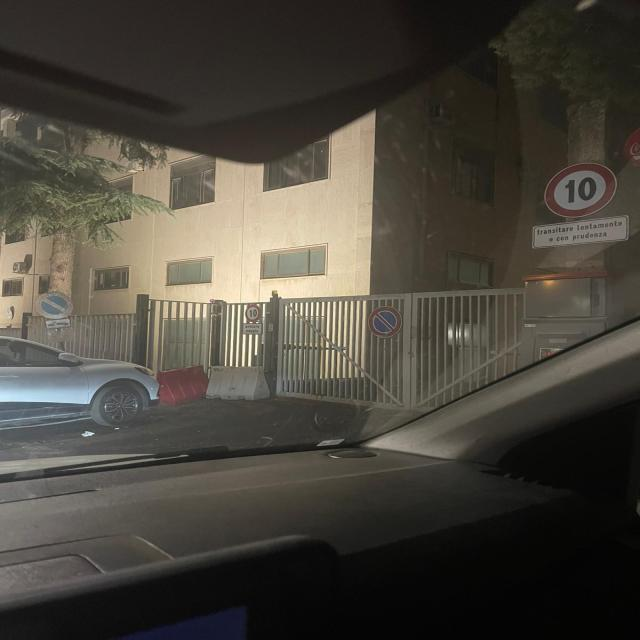forb_speed_over_10: (542, 162, 622, 220), (245, 305, 261, 322)
forb_stopping: (367, 307, 402, 338)
